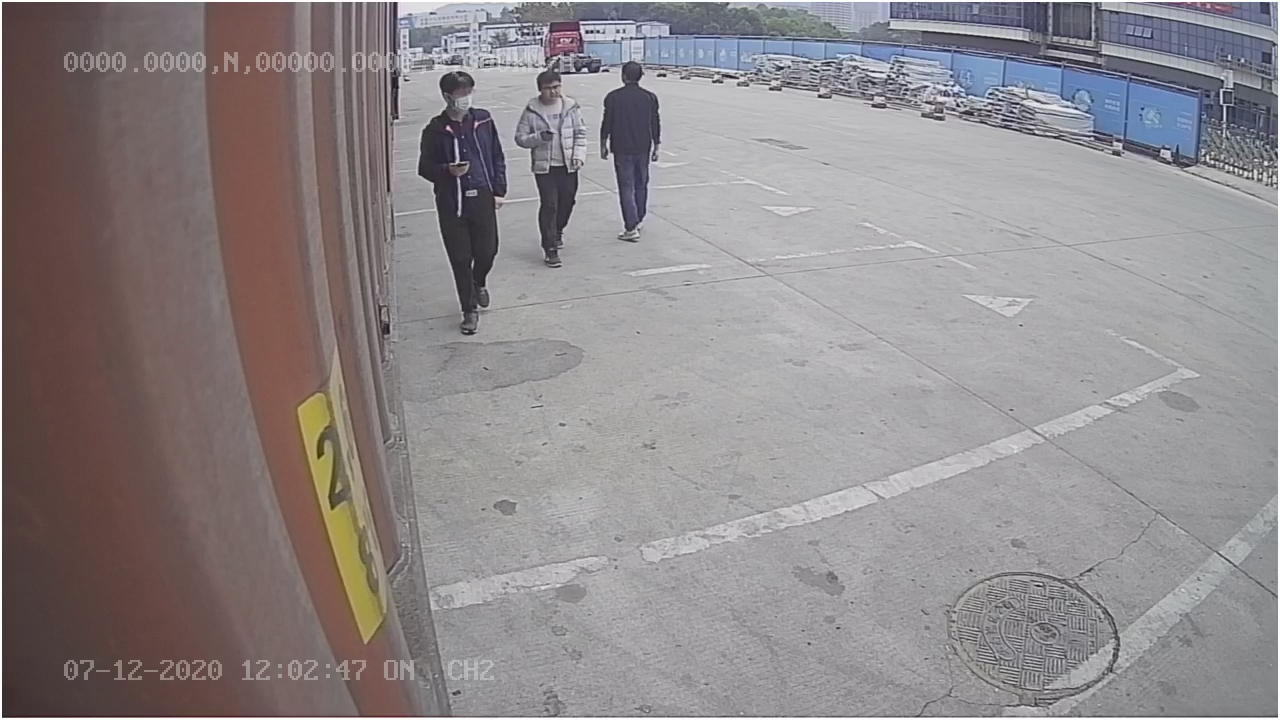person: (419, 68, 510, 335)
